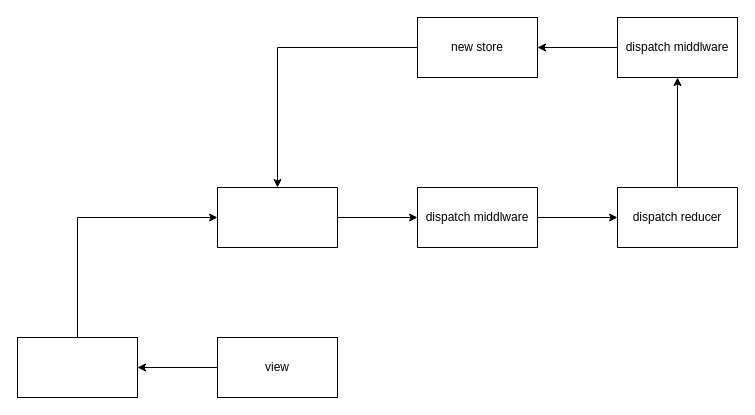
The diagram is 755 pixels wide and 415 high, and some of its shapes have lost their labels. Here are the shapes that lost their labels. From the top down, the centre of each, then its label:
At (277,217): "store".
At (77,367): "dispatch action".
